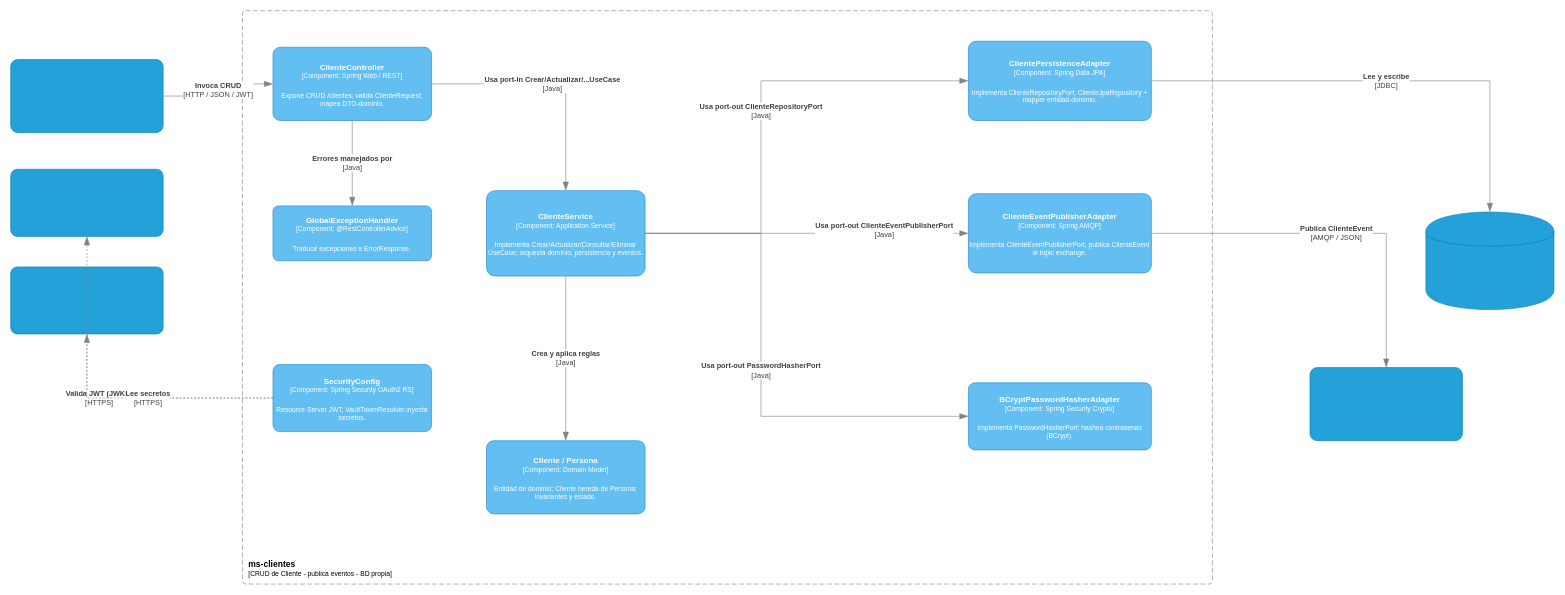
This 1565x595 diagram has some shape labels left out. The centre of each missing label's shape, as x and y in pixels:
"API Gateway [Container: Spring Cloud Gateway] Enruta /clientes con JWT." goes at [86,96].
"Broker de Identidad [Container: Keycloak] Emite/valida JWT." goes at [86,202].
"devsu_clientes [Container: PostgreSQL] persona, cliente." goes at [1489,260].
"Gestor de Secretos [Container: Vault] Credenciales de BD." goes at [86,300].
"Message Broker [Container: RabbitMQ] Exchange de eventos." goes at [1385,404].
